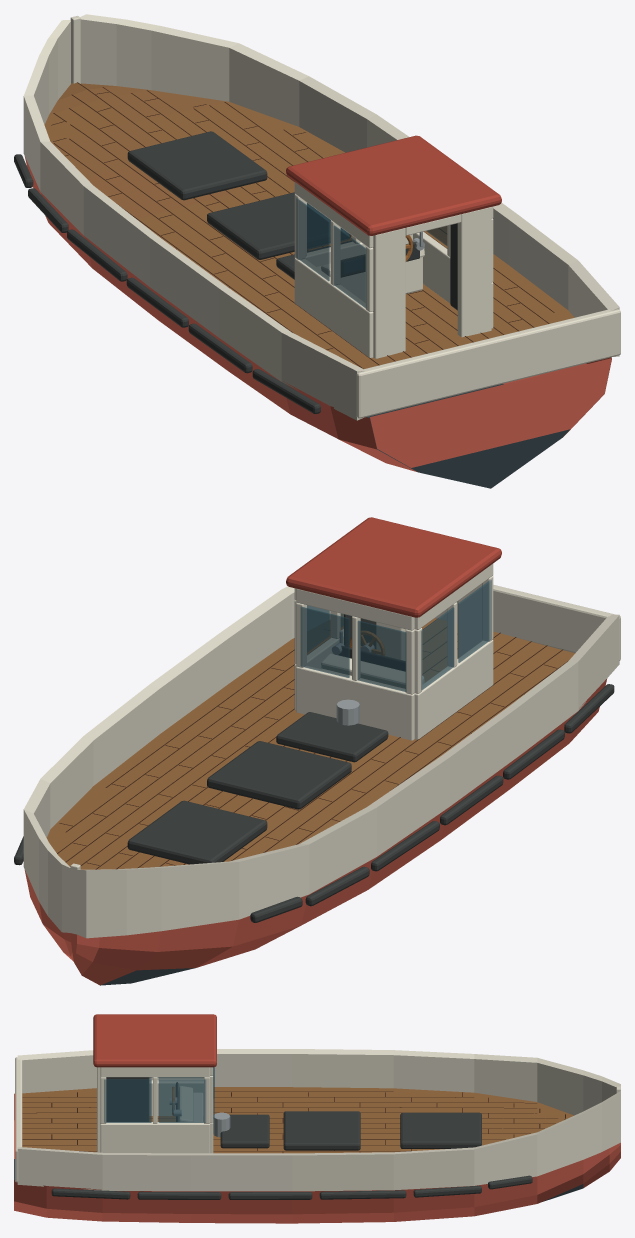
File: modular_fishing_boat.glb
3 views of the same model, one above another, from view 1: azimuth 30°, elevation 25°; view 2: azimuth 150°, elevation 25°; view 3: azimuth 270°, elevation 25° (orthographic). The views are drawn at different scales.
Visible parts, largest first — view 1: WorkingDeck, BulwarkStarboard, BulwarkPort, Transom, BulwarkStern, WheelhouseRoof, WheelhouseRearFrame, WheelhousePortFrame, HullShell, HatchHoldForward, DeckPlankSeams, HatchHoldAft (+12 smaller); view 2: WorkingDeck, BulwarkPort, BulwarkStarboard, HullShell, WheelhouseRoof, WheelhouseFrontFrame, WheelhousePortFrame, HatchHoldAft, HatchHoldForward, BulwarkStern, DeckPlankSeams, HatchEngine (+14 smaller); view 3: BulwarkStarboard, BulwarkPort, WorkingDeck, HullShell, WheelhouseRoof, WheelhouseStarboardFrame, HatchHoldAft, DeckPlankSeams, HatchHoldForward, SideWindowStarboardAft, SideWindowStarboardForward, WheelhouseDoorOpen (+13 smaller).
Part boxes in pixels (box(x1,y1,x2,y2)): WorkingDeck: box(44, 82, 574, 368); BulwarkStarboard: box(80, 14, 619, 356); BulwarkPort: box(23, 20, 364, 420); Transom: box(370, 358, 611, 488); BulwarkStern: box(356, 309, 620, 418); WheelhouseRoof: box(286, 135, 501, 235); WheelhouseRearFrame: box(373, 207, 491, 358); WheelhousePortFrame: box(294, 182, 373, 358); HullShell: box(24, 156, 611, 484); HatchHoldForward: box(127, 131, 267, 200); DeckPlankSeams: box(51, 82, 554, 368); HatchHoldAft: box(207, 192, 351, 259); WorkingDeck: box(47, 614, 574, 869); BulwarkPort: box(76, 614, 619, 938); BulwarkStarboard: box(23, 586, 330, 932); HullShell: box(24, 678, 607, 985); WheelhouseRoof: box(286, 517, 501, 617); WheelhouseFrontFrame: box(296, 588, 414, 740); WheelhousePortFrame: box(414, 563, 493, 739); HatchHoldAft: box(207, 741, 351, 809); HatchHoldForward: box(127, 800, 267, 864); BulwarkStern: box(435, 585, 620, 660); DeckPlankSeams: box(57, 619, 567, 869); HatchEngine: box(276, 712, 388, 762); BulwarkStarboard: box(17, 1091, 620, 1191); BulwarkPort: box(17, 1049, 620, 1115); WorkingDeck: box(22, 1087, 573, 1153); HullShell: box(14, 1093, 620, 1223); WheelhouseRoof: box(93, 1014, 216, 1067); WheelhouseStarboardFrame: box(100, 1067, 209, 1153); HatchHoldAft: box(283, 1111, 360, 1150); DeckPlankSeams: box(22, 1091, 565, 1152); HatchHoldForward: box(400, 1112, 481, 1148); SideWindowStarboardAft: box(104, 1079, 151, 1122); SideWindowStarboardForward: box(158, 1079, 205, 1122); WheelhouseDoorOpen: box(106, 1077, 149, 1121).
Size of the model in its own units: 5.8 by 4.32 by 13.
